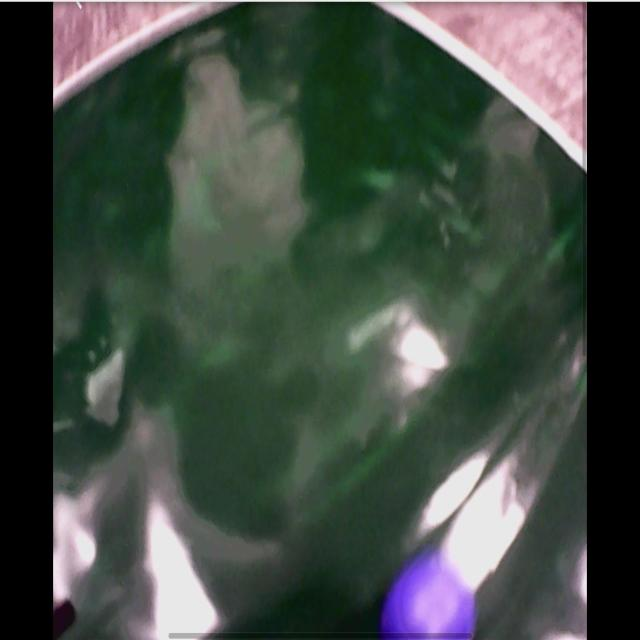ball: (385, 557, 476, 637)
